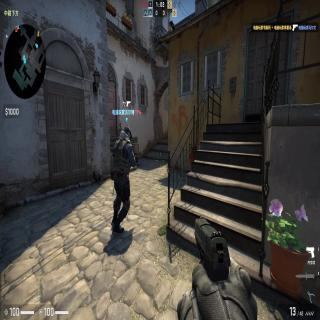CT-Body: (110, 126, 136, 236)
CT-Head: (122, 125, 132, 141)
